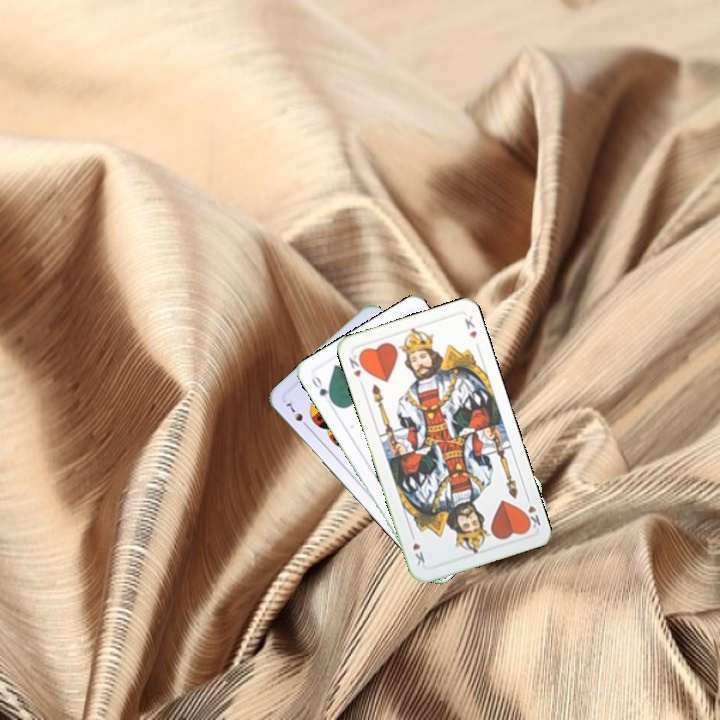GO: (307, 371, 337, 408)
HK: (519, 491, 543, 532), (345, 350, 368, 380)
S7: (282, 397, 312, 431)
